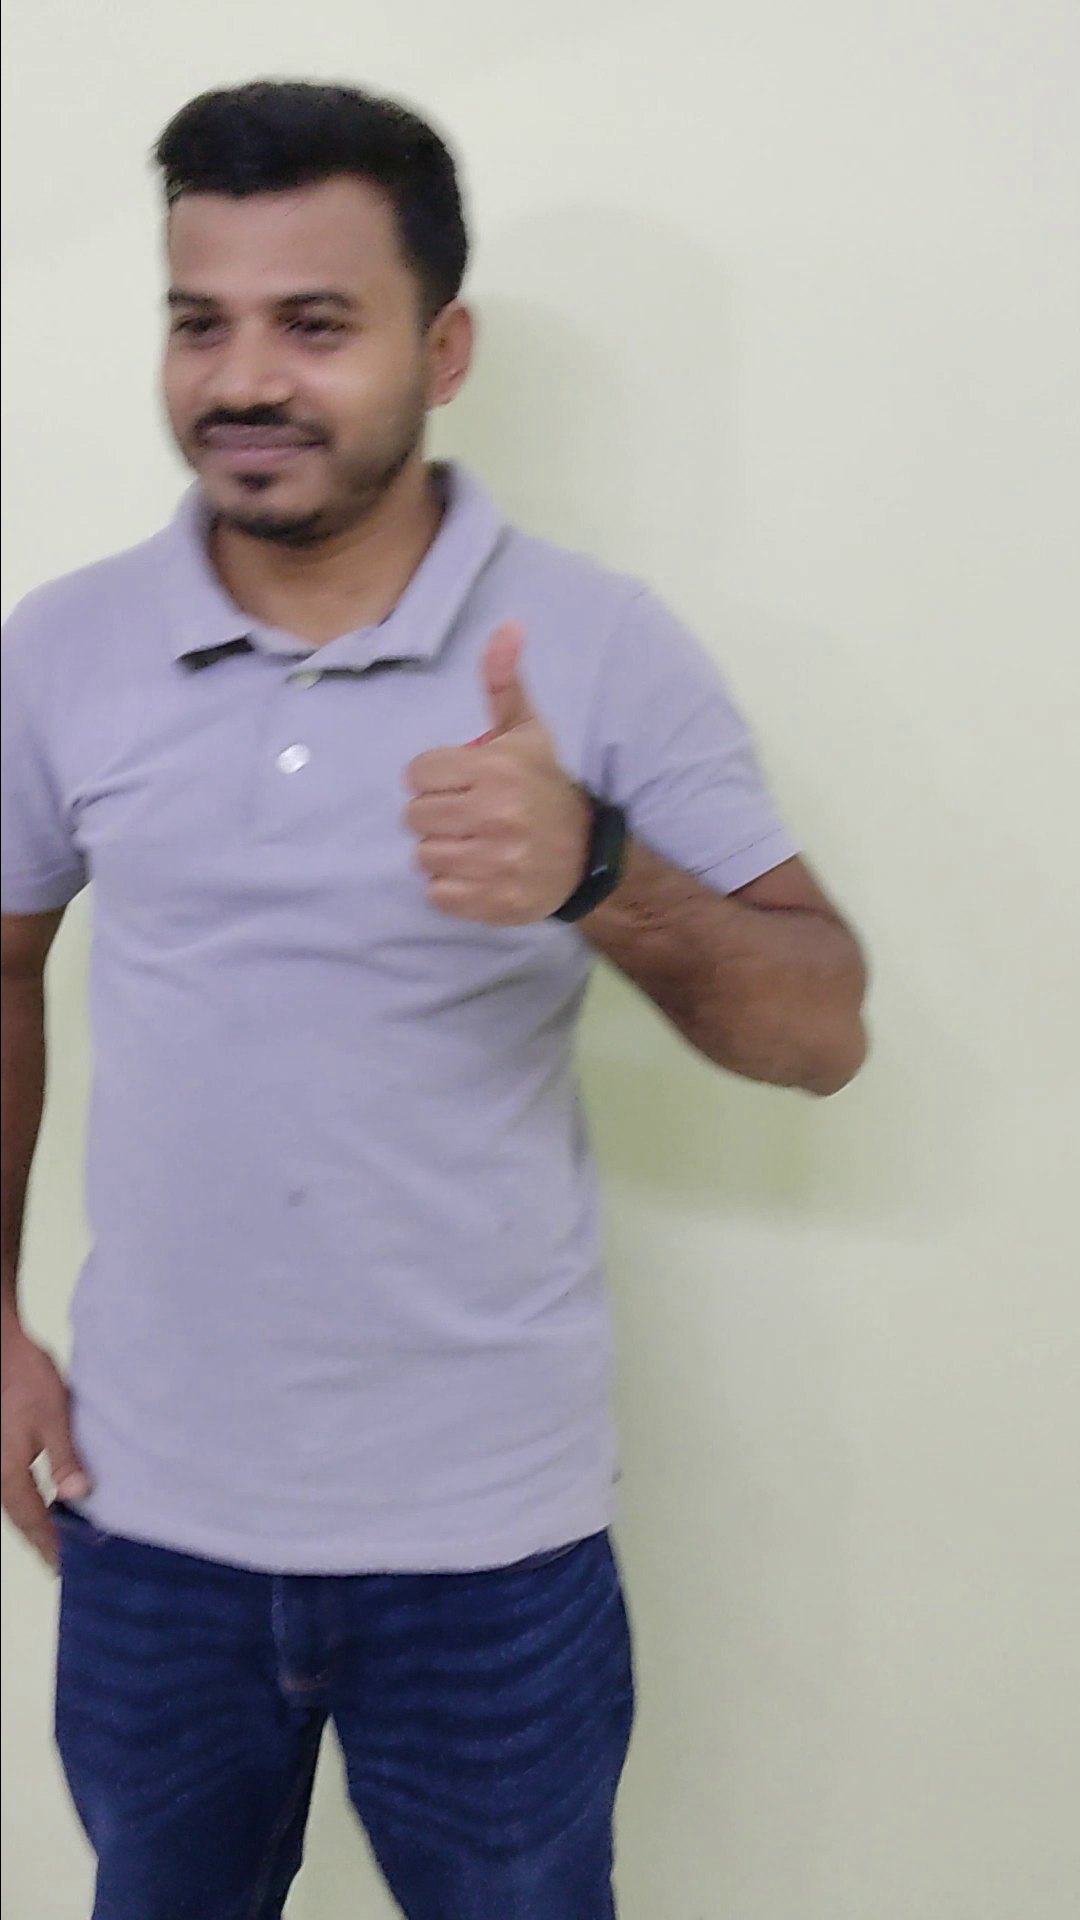Like: (385, 599, 618, 936)
None: (4, 1331, 107, 1578)
